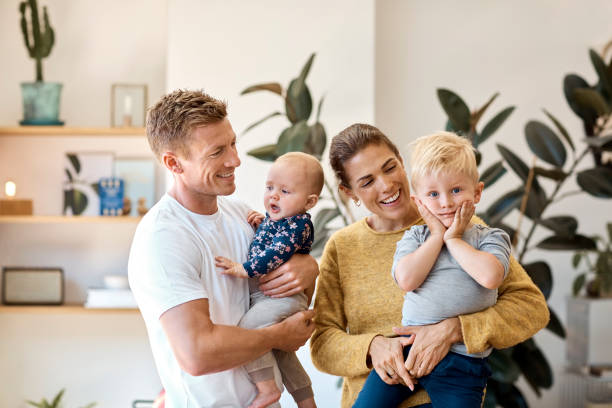without mask: (144, 95, 248, 201), (340, 140, 413, 220), (411, 157, 484, 237), (255, 148, 328, 228)
